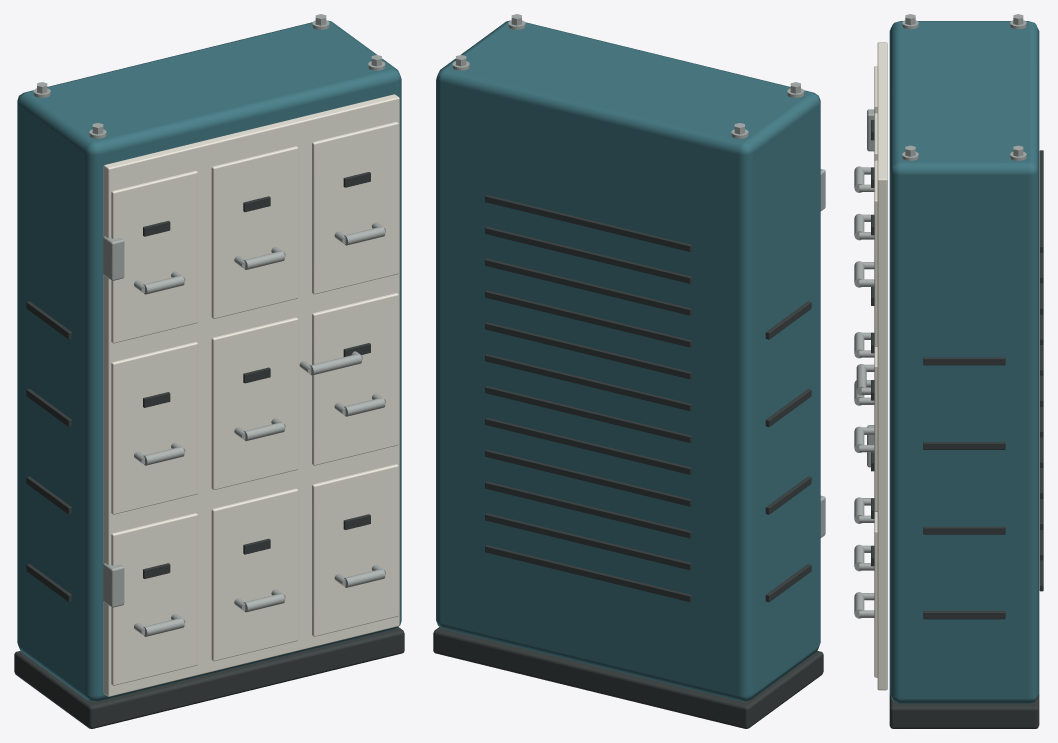
The model's file is optician-and-optical-lens-workshop-optician-and-optica-d5564807__31714.glb.
The picture shows the model from 3 angles, left to right: view 1: azimuth 30°, elevation 25°; view 2: azimuth 150°, elevation 25°; view 3: azimuth 270°, elevation 25°; orthographic projection. The views are drawn at different scales.
Parts seen in each view (by area): view 1: optician-and-optical-lens-workshop-repair-collection-cabinet (×4); view 2: optician-and-optical-lens-workshop-repair-collection-cabinet (×3); view 3: optician-and-optical-lens-workshop-repair-collection-cabinet (×4).
Boxes of the visible parts, <box> form: optician-and-optical-lens-workshop-repair-collection-cabinet (×4): <box>14,14,404,728</box>; optician-and-optical-lens-workshop-repair-collection-cabinet (×3): <box>433,14,825,728</box>; optician-and-optical-lens-workshop-repair-collection-cabinet (×4): <box>854,14,1043,728</box>.
Size of the model in its own units: 0.872 by 1.52 by 0.4555.
